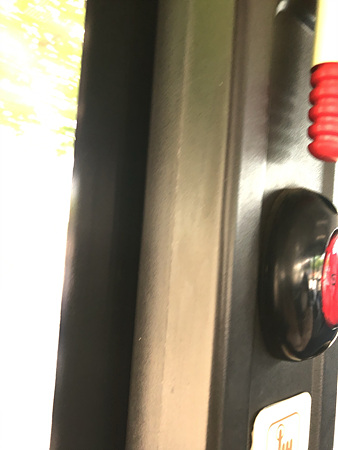bell: (257, 185, 338, 367)
